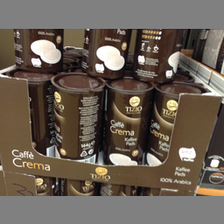coffee: (51, 71, 106, 165), (148, 80, 205, 168), (103, 76, 155, 166), (12, 29, 64, 71)
